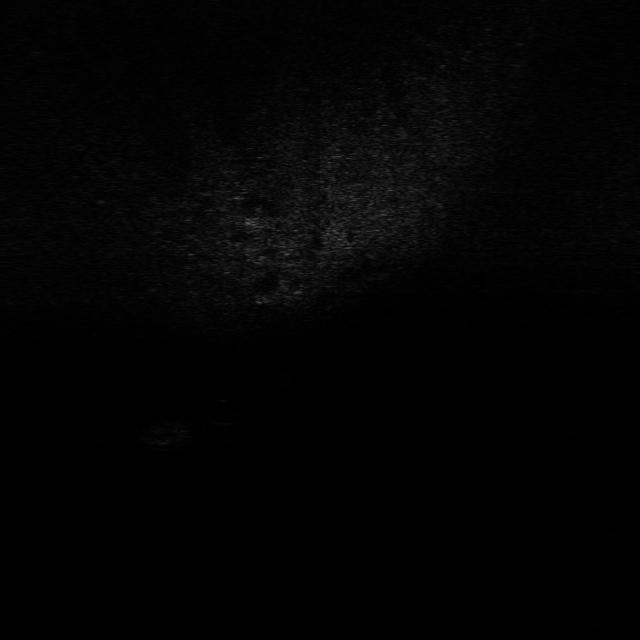ball: (201, 393, 248, 427)
circle cage: (134, 418, 202, 452)
